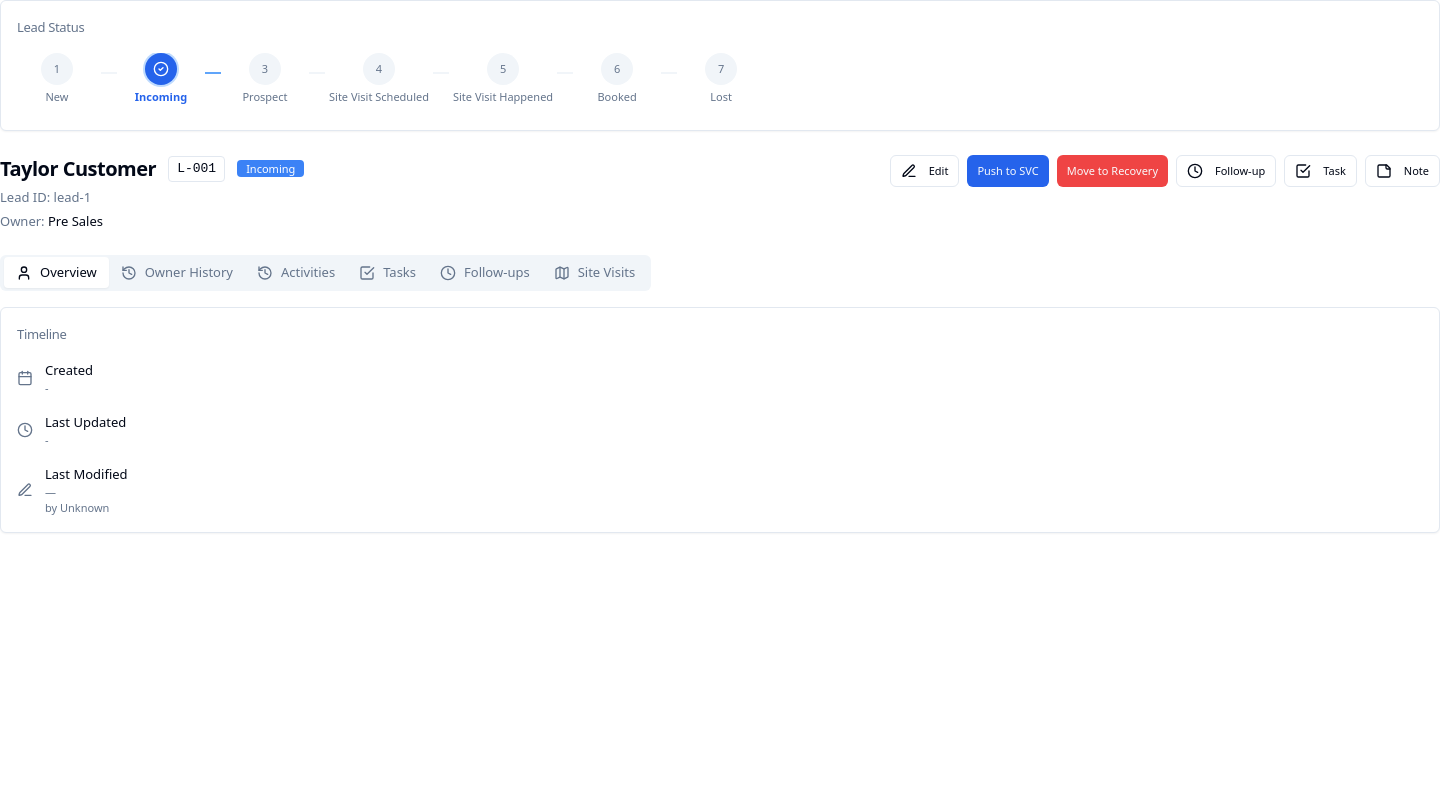
Scenario: Push to SVC › shows success and updates local owner/status without refetching inaccessible Lead data
The image size is (1440, 810).
Click the button "Push to SVC" at (1008, 170), box [967, 154, 1049, 186]
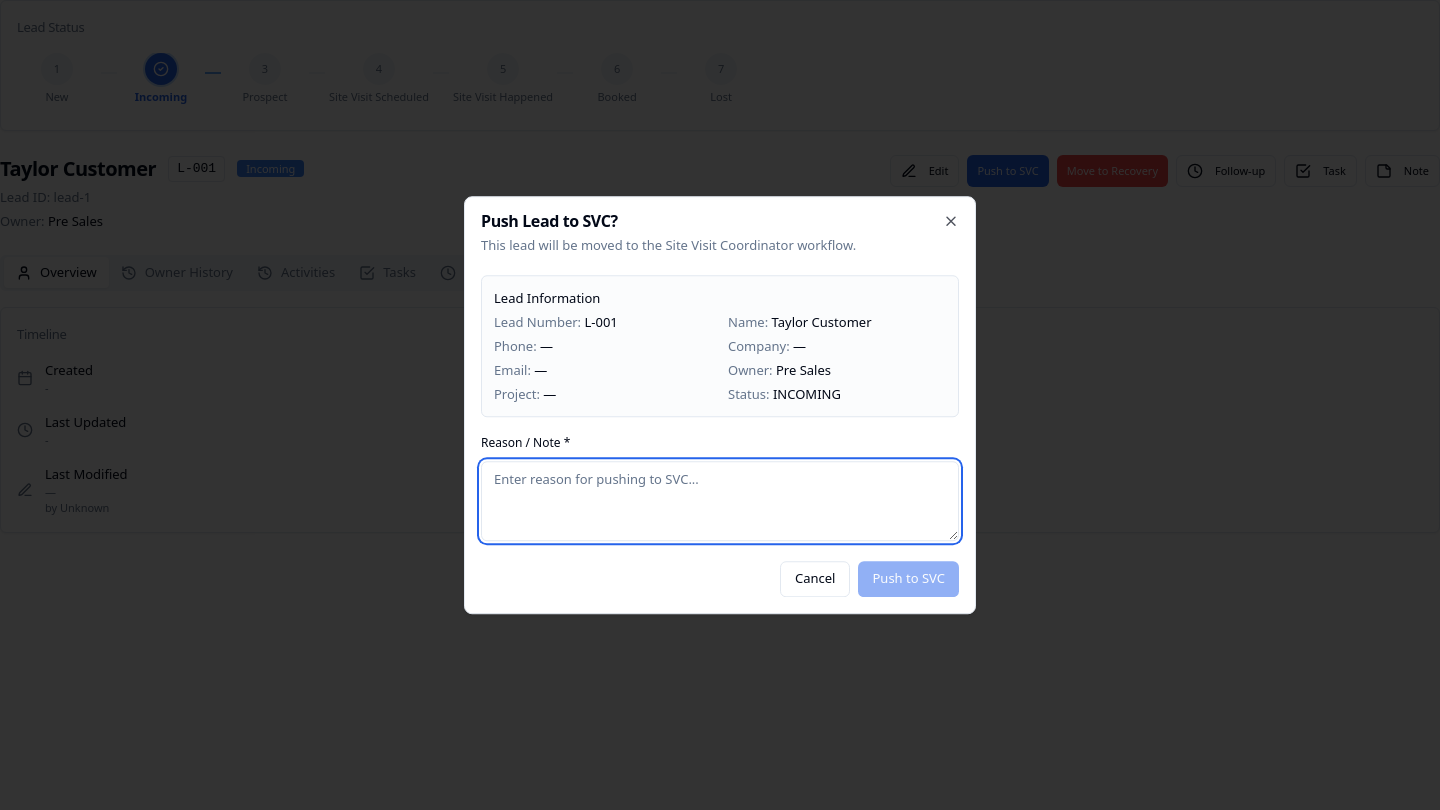
Type "Qualified for site visit" into the text box labelled "Reason / Note *" at (720, 501), box [481, 461, 959, 541]
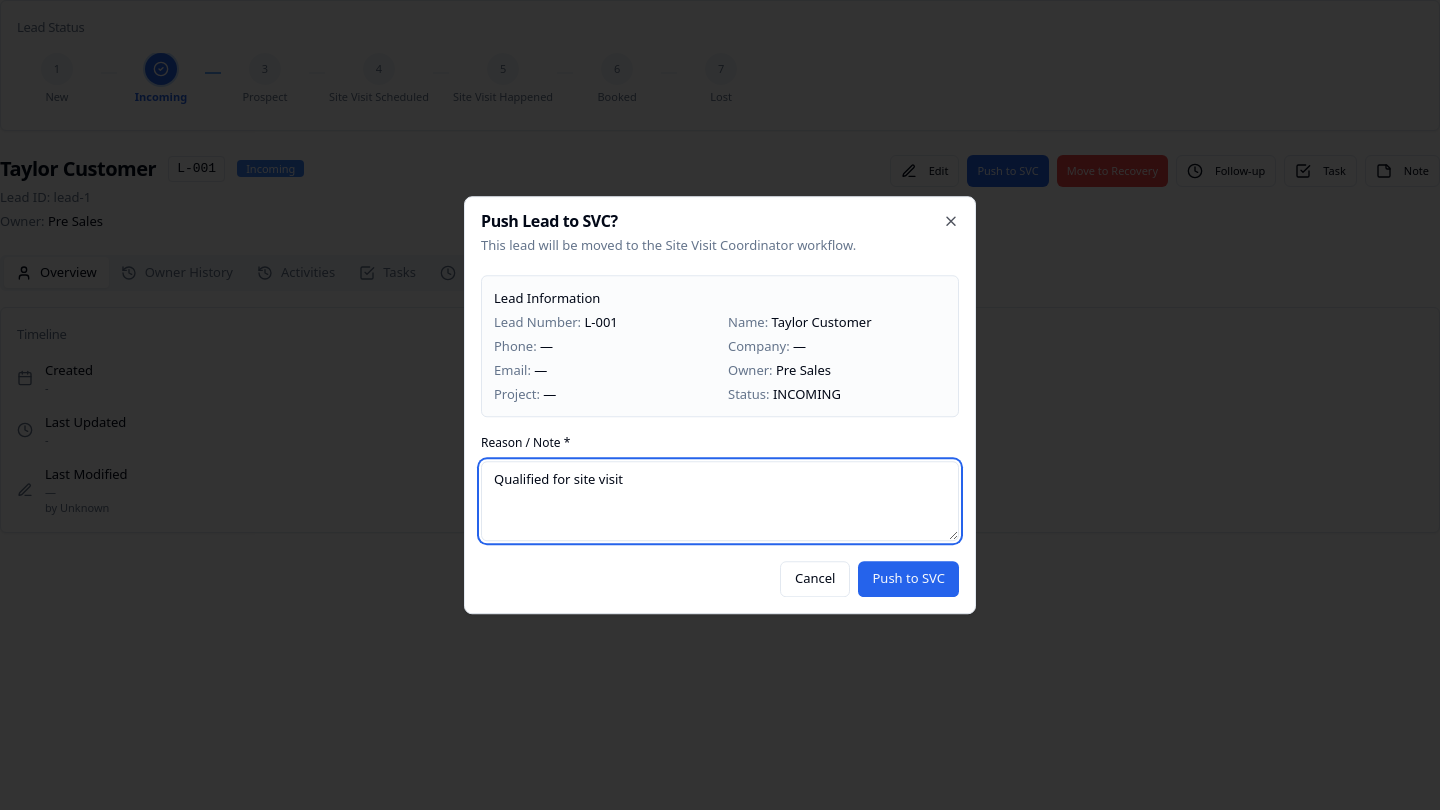
Click the button "Push to SVC" at (909, 579), box [858, 561, 959, 597]
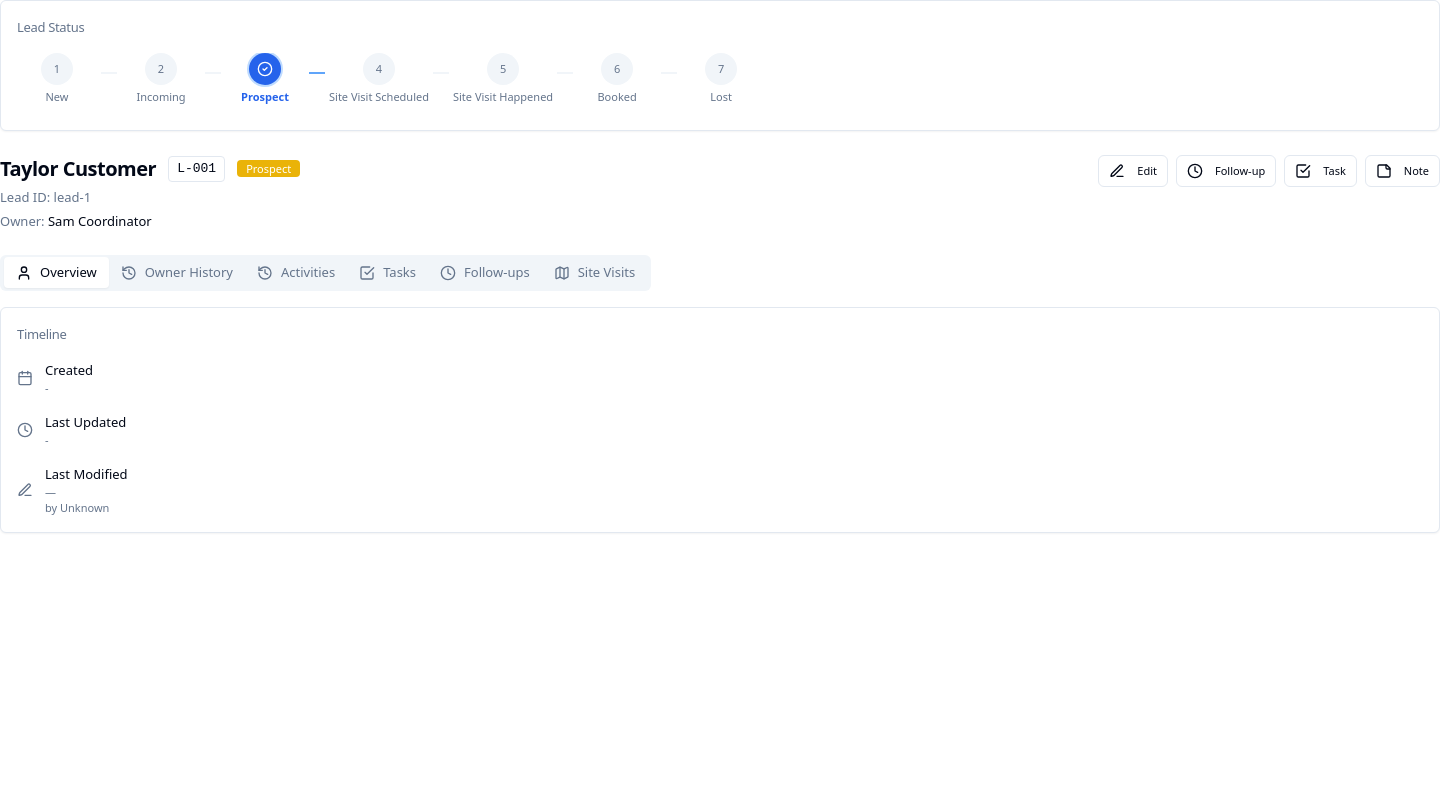
Expected: the text "Prospect" next to "Site Visit Scheduled" is shown, [241, 89, 289, 104]
Result: the text "Sam Coordinator" is shown at [48, 212, 152, 230]
